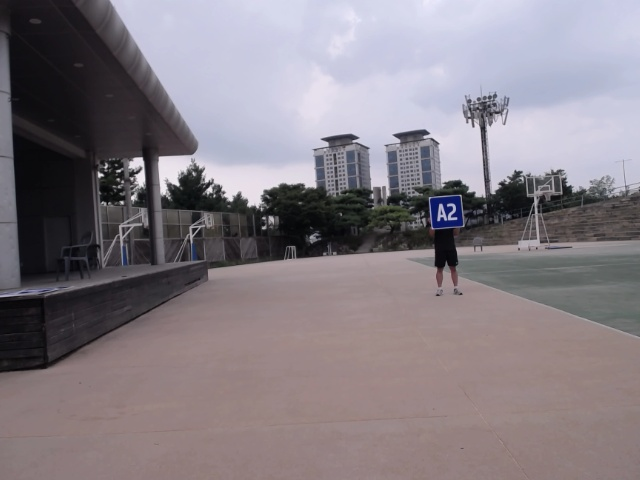delivery_a2: (430, 196, 464, 229)
